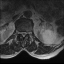CCS_normal: (22, 29, 24, 38)
LFS_stenosis: (27, 30, 29, 35)
LLS_normal: (24, 29, 27, 37)
RFS_normal: (18, 29, 20, 35)
RLS_normal: (20, 30, 22, 36)
